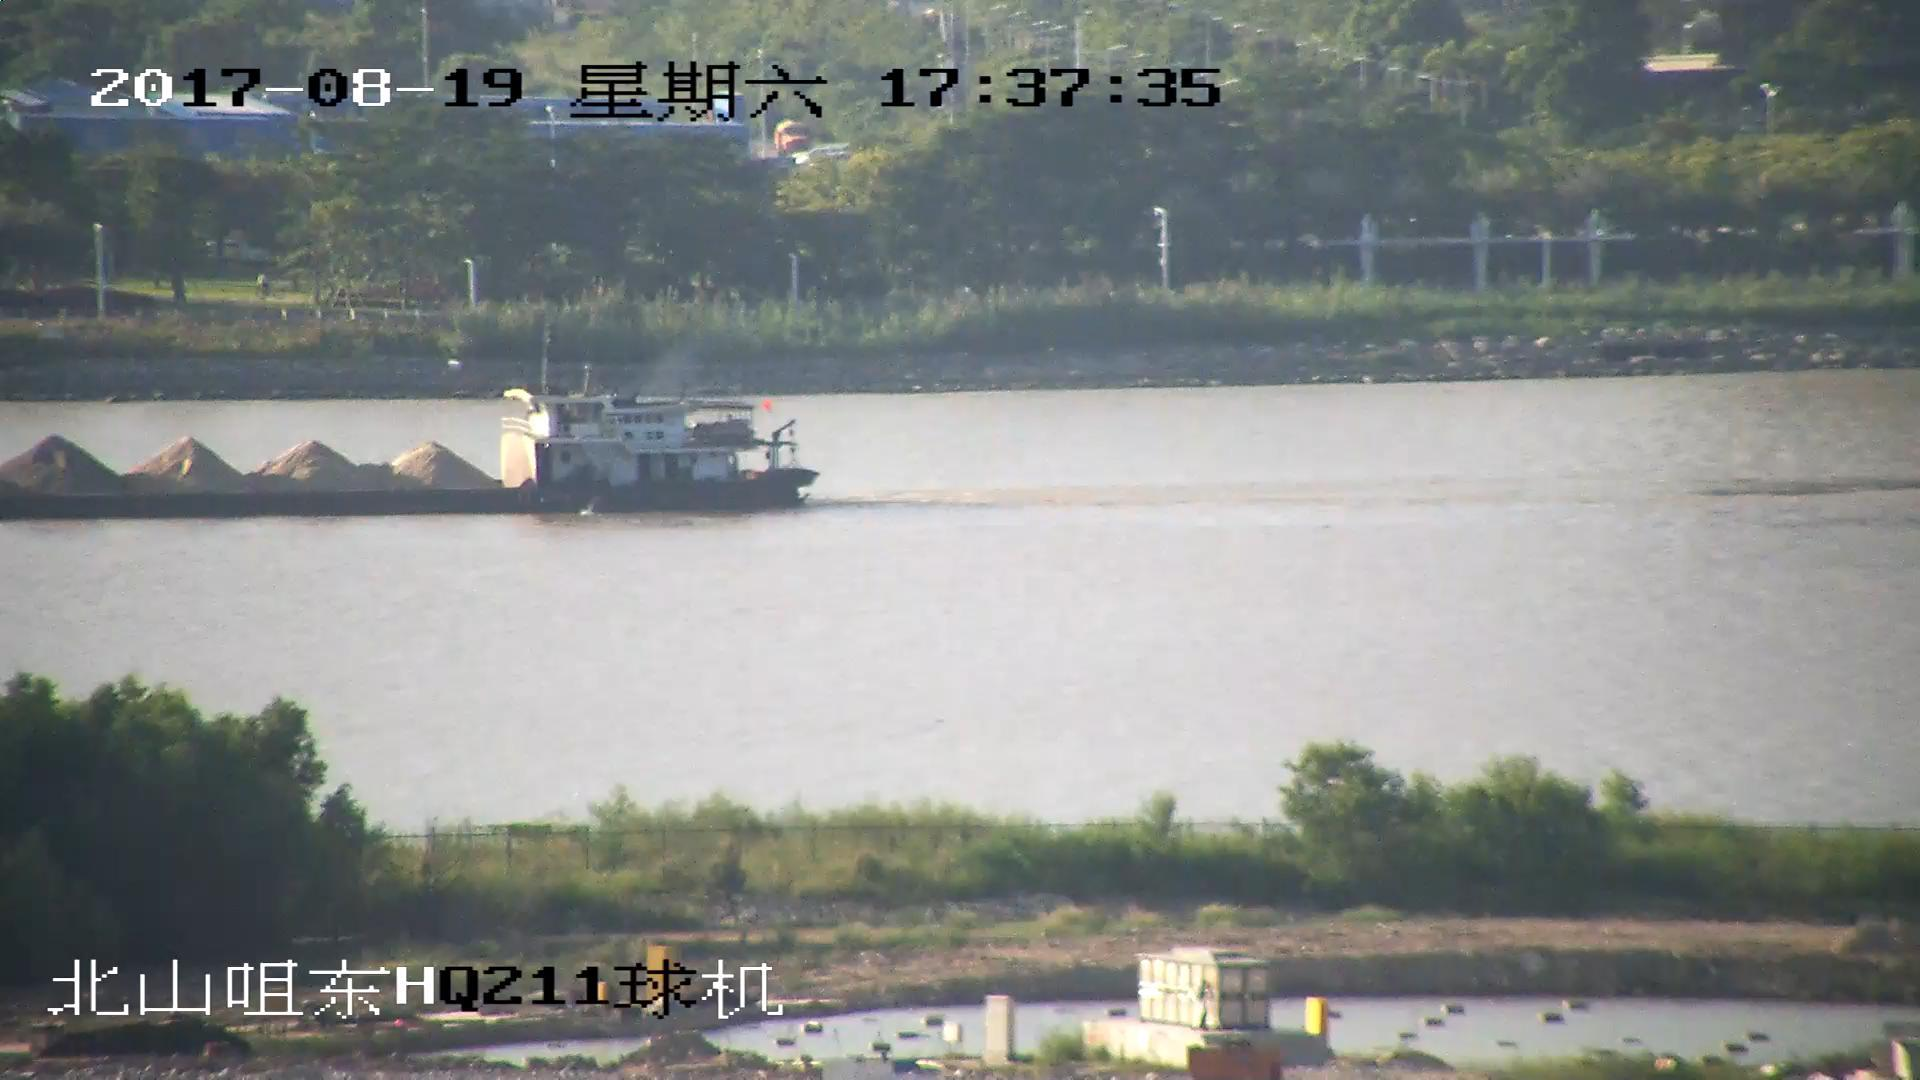Ship: (3, 330, 818, 520)
